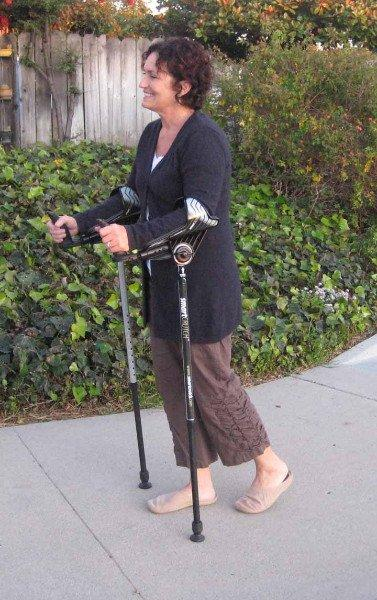crutches: (45, 37, 295, 543)
